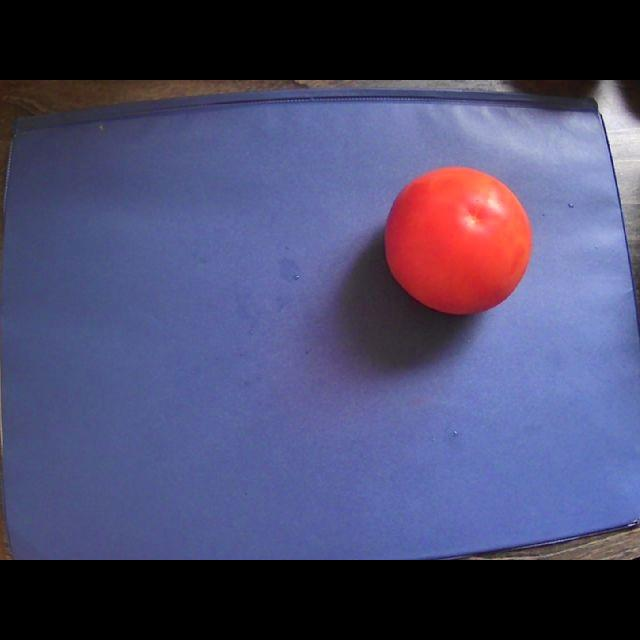tomate: (385, 166, 532, 313)
